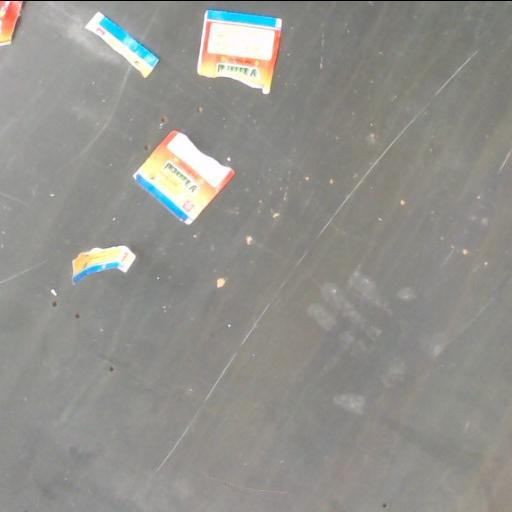conveyor belt: (0, 1, 511, 512)
packet: (134, 130, 233, 224), (197, 10, 281, 93), (85, 12, 158, 77), (73, 246, 135, 281), (0, 1, 22, 45)
